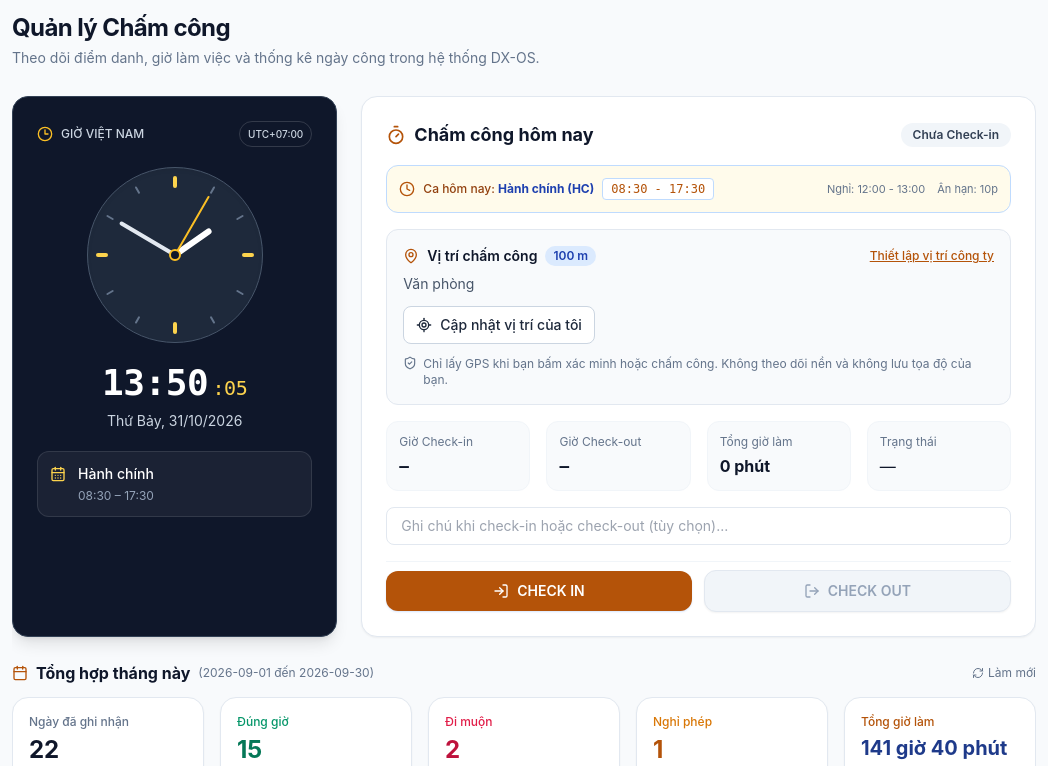
Scenario: AttendancePage Component & User Flows › 17. blocks an ambiguous viewport URL and shows how to choose a real pin
The width and height of the screenshot is (1048, 766).
Expected: the text "Văn phòng" is shown, [403, 275, 474, 292]
Click the button "Thiết lập vị trí công ty": (932, 256) [870, 248, 994, 264]
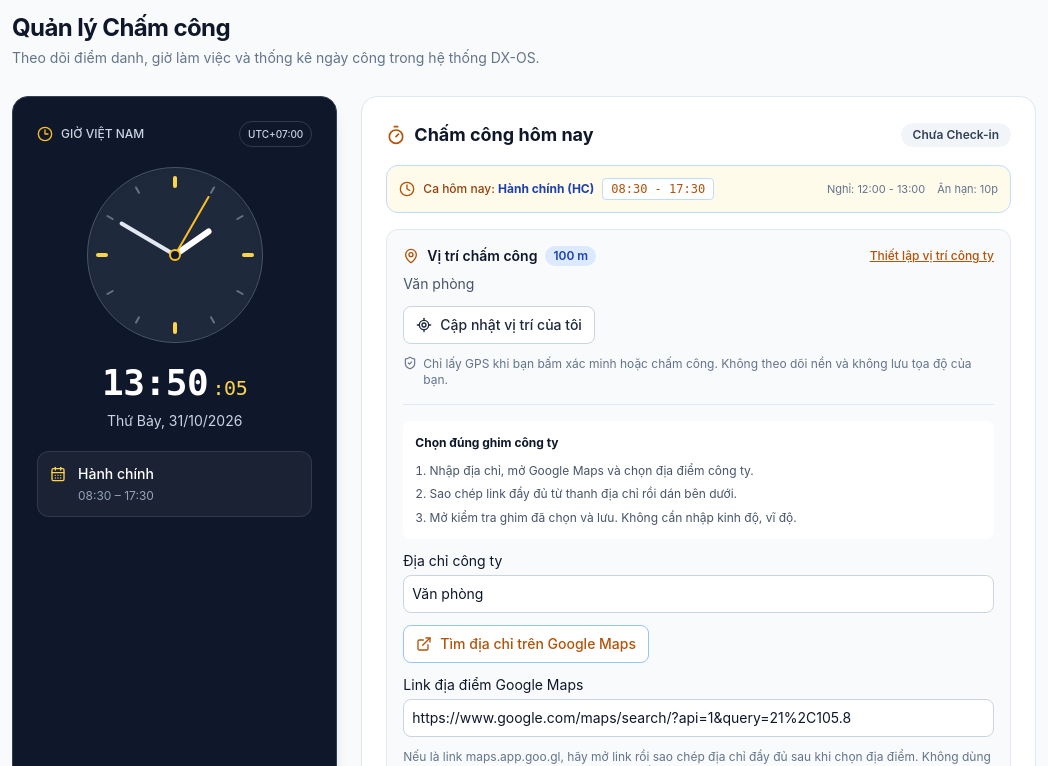
Replace the text in the field labelled "Link địa điểm Google Maps" with "https://www.google.com/maps/@21,105.8,17z": (699, 718) [403, 699, 994, 737]
(page scrolled)
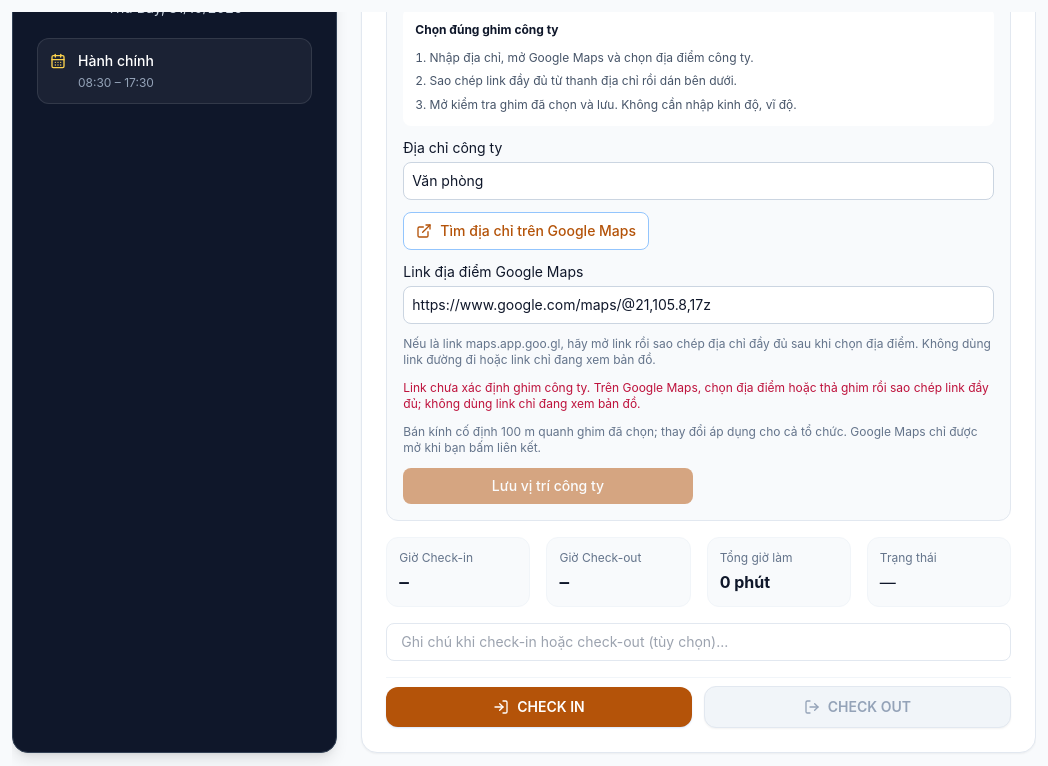
Now the button "Lưu vị trí công ty" is disabled, box [403, 468, 693, 504]
Now the text "Link chưa xác định ghim công ty" is shown, box [403, 380, 989, 411]
